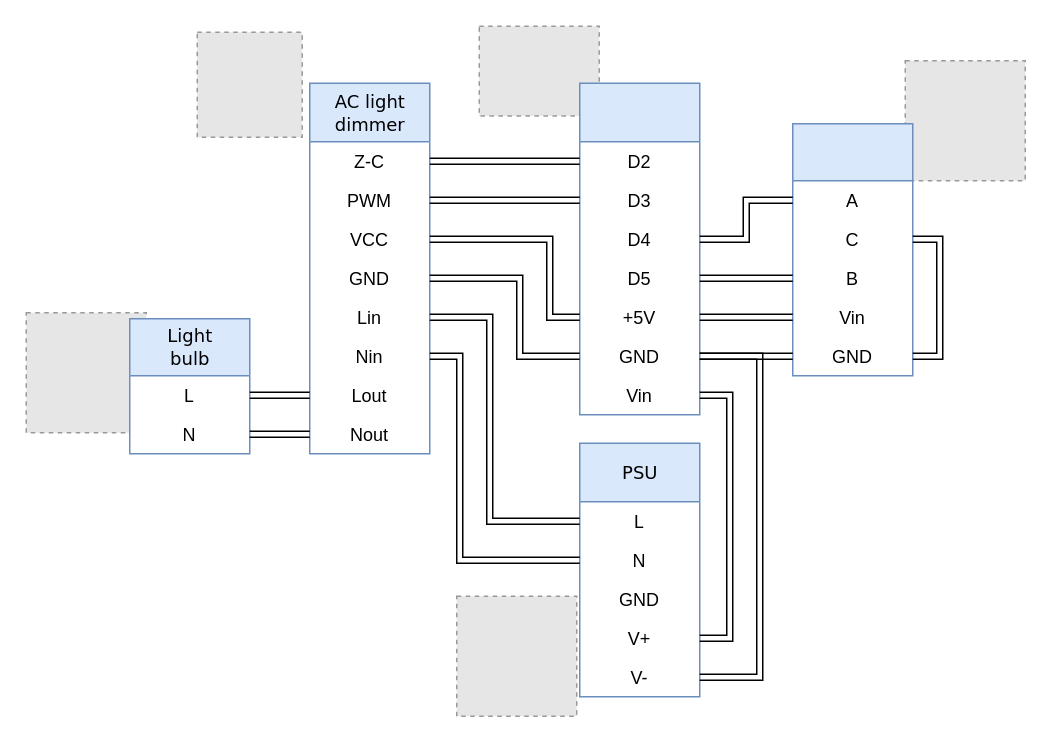
The diagram is 1052 pixels wide and 743 high, and some of its shapes have lost their labels. Grey dashed boxes stand in for pictures. The shapes that lost their labels are listed below. From the top down, each one's box as (x1, y1, x2, y2) in pixels, then its label:
(578, 82, 700, 415): Arduino
(791, 122, 913, 376): Rotary encoder
